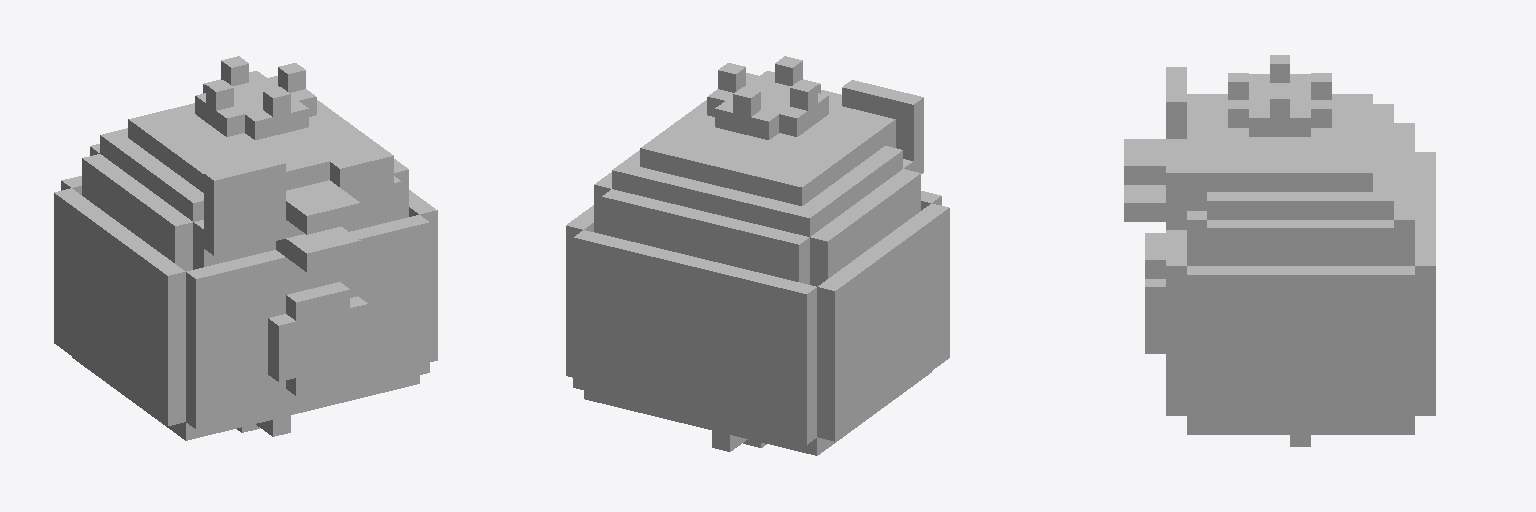
File: HiyokoEye.obj
The picture shows the model from 3 angles: view 1: azimuth 30°, elevation 25°; view 2: azimuth 150°, elevation 25°; view 3: azimuth 270°, elevation 25°; orthographic projection.
Visible parts, largest first — view 1: Untitled; view 2: Untitled; view 3: Untitled.
Part boxes in pixels (bbox=[...]): Untitled: bbox=[54, 56, 437, 440]; Untitled: bbox=[566, 56, 949, 455]; Untitled: bbox=[1124, 55, 1435, 446].
Bounding box in the file's own units: 1.5 × 1.9 × 1.5.